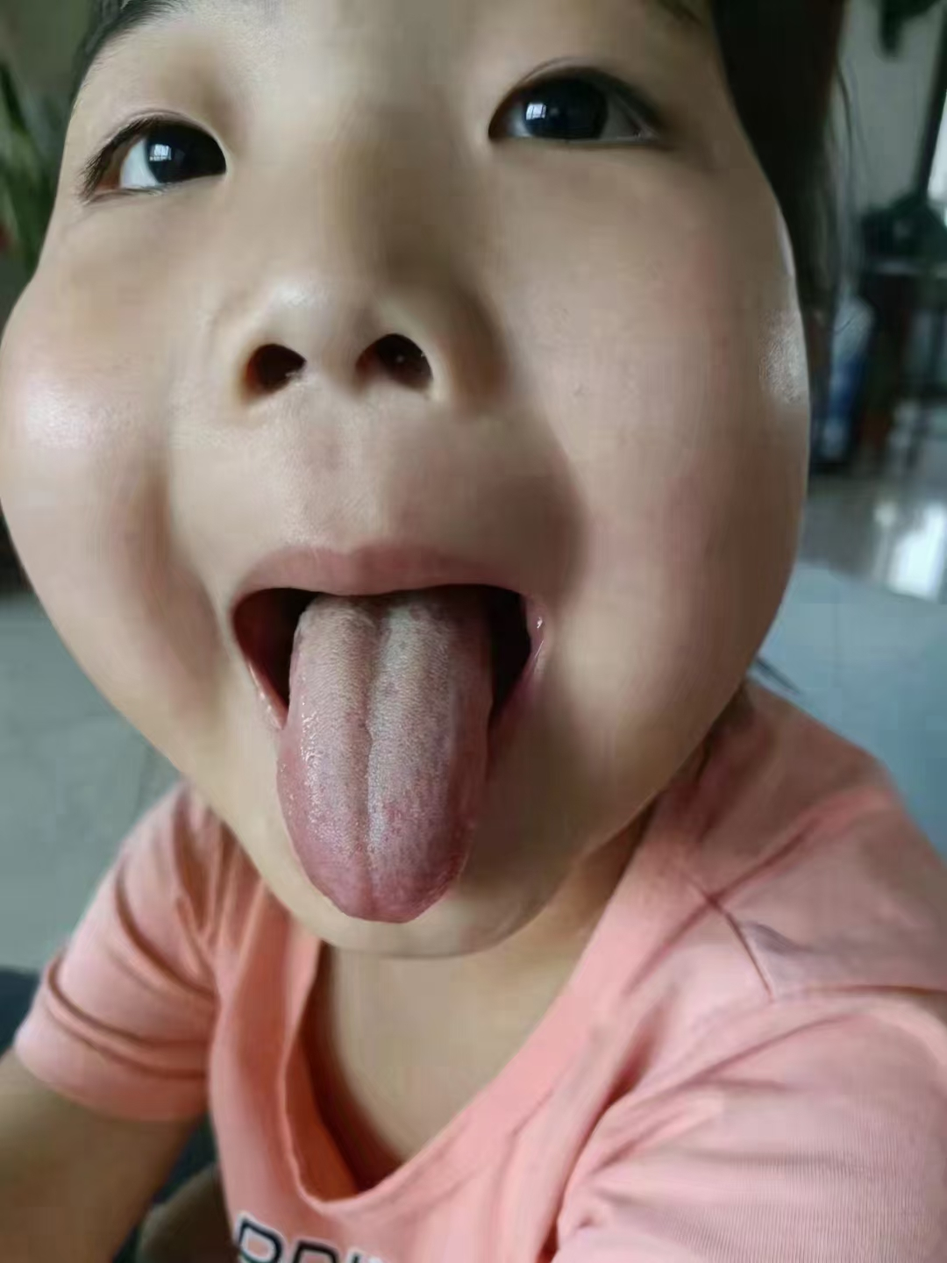baitaishe: (278, 598, 492, 923)
liewenshe: (357, 631, 382, 912)
